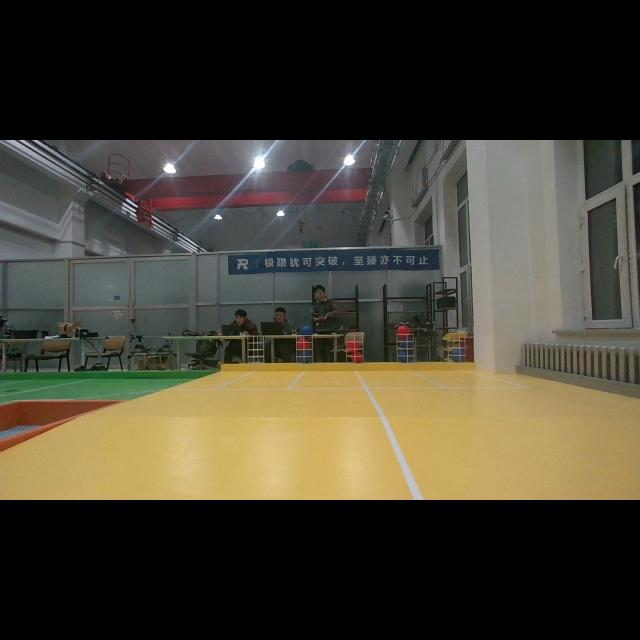S: (392, 330, 418, 368), (442, 332, 468, 364), (244, 334, 266, 366), (347, 332, 365, 368), (294, 333, 312, 367)
